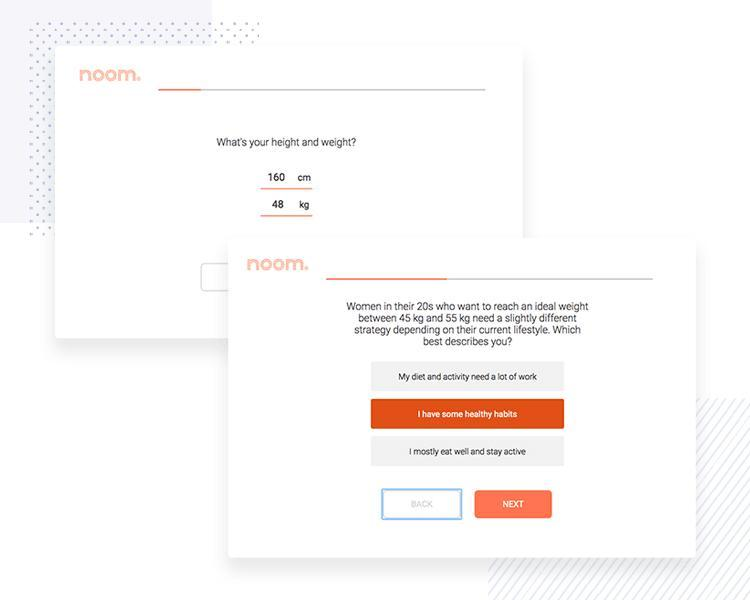button: (370, 435, 566, 469), (371, 361, 567, 393), (371, 398, 566, 430), (382, 489, 463, 521), (475, 490, 553, 520)
label: (345, 301, 590, 348), (215, 137, 358, 148)
